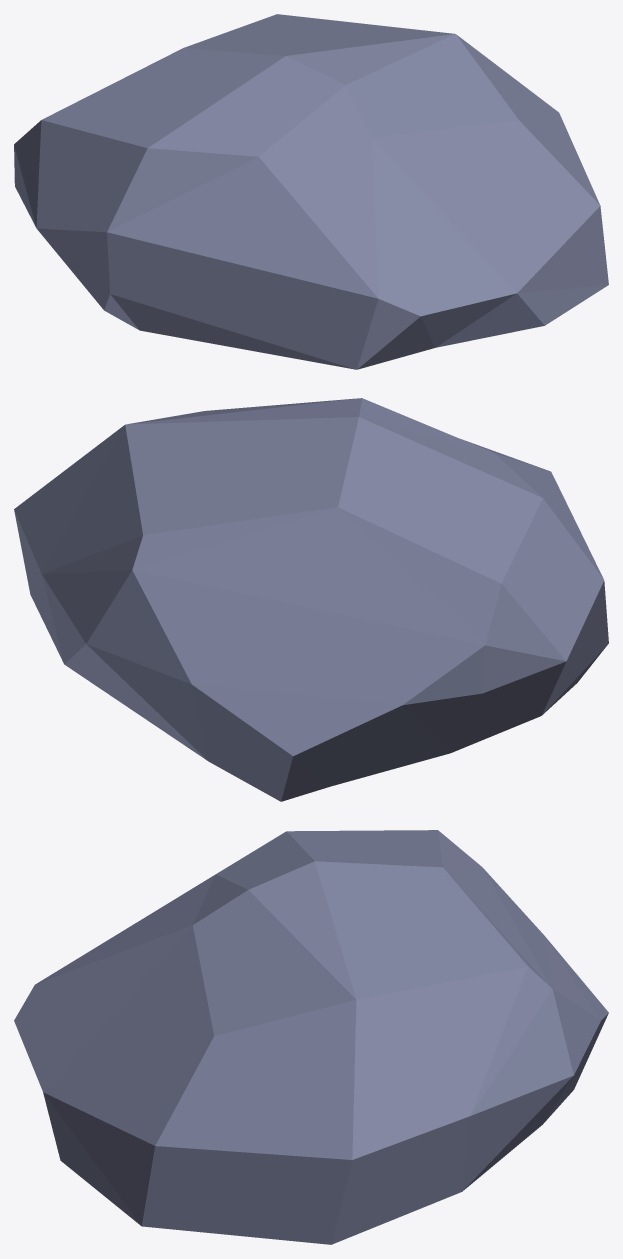
The model's file is Stone_3 Asia.fbx.
The picture shows the model from 3 angles, top to bottom: view 1: azimuth 30°, elevation 25°; view 2: azimuth 150°, elevation 25°; view 3: azimuth 270°, elevation 25°; orthographic projection. The views are drawn at different scales.
Visible parts, largest first — view 1: Stone_3; view 2: Stone_3; view 3: Stone_3.
Part boxes in pixels (box(x1,y1,x2,y2)): Stone_3: box(14, 14, 608, 369); Stone_3: box(14, 398, 608, 801); Stone_3: box(14, 830, 608, 1244).
Size of the model in its own units: 1.78 by 0.8575 by 1.71.
